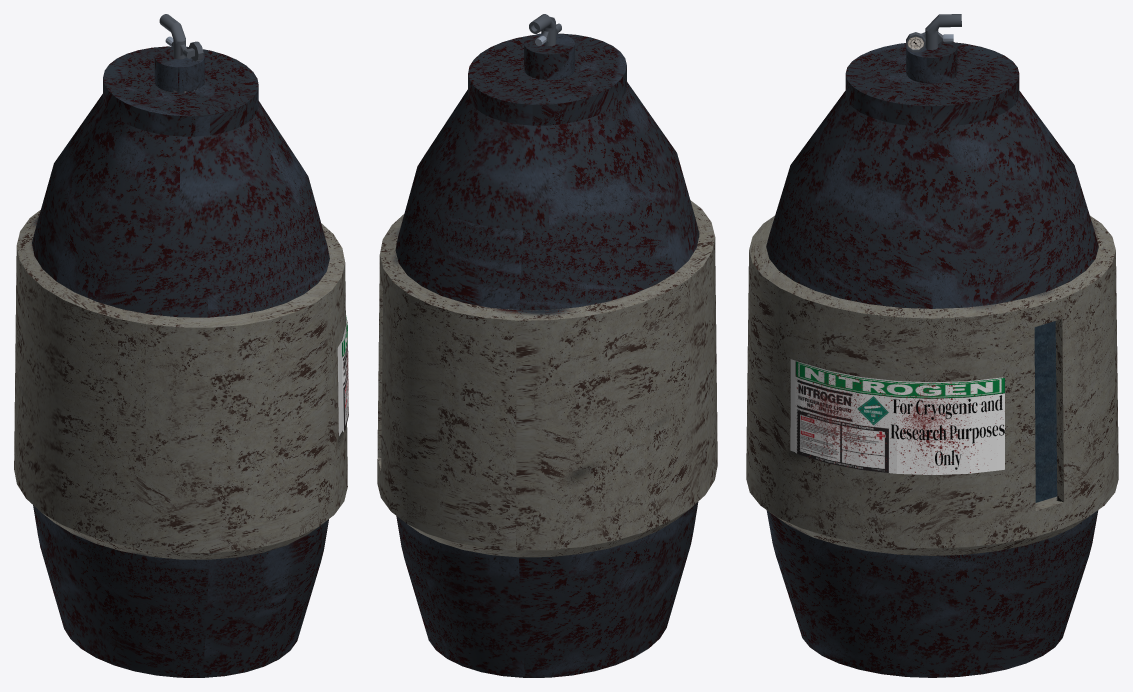
File: Barrel.fbx
The picture shows the model from 3 angles, left to right: view 1: azimuth 30°, elevation 25°; view 2: azimuth 150°, elevation 25°; view 3: azimuth 270°, elevation 25°; orthographic projection. The views are drawn at different scales.
Visible parts, largest first — view 1: Barrel, Label.001; view 2: Barrel; view 3: Barrel, Label.001.
Boxes of the visible parts, x1,y1,x2,y2 form: Barrel: (14,14,347,677); Label.001: (342,315,348,431); Barrel: (377,14,717,677); Barrel: (746,14,1118,677); Label.001: (795,361,1004,474).
Bounding box in the file's own units: 62.13 × 127 × 69.99.
4 materials, 3 textured.
